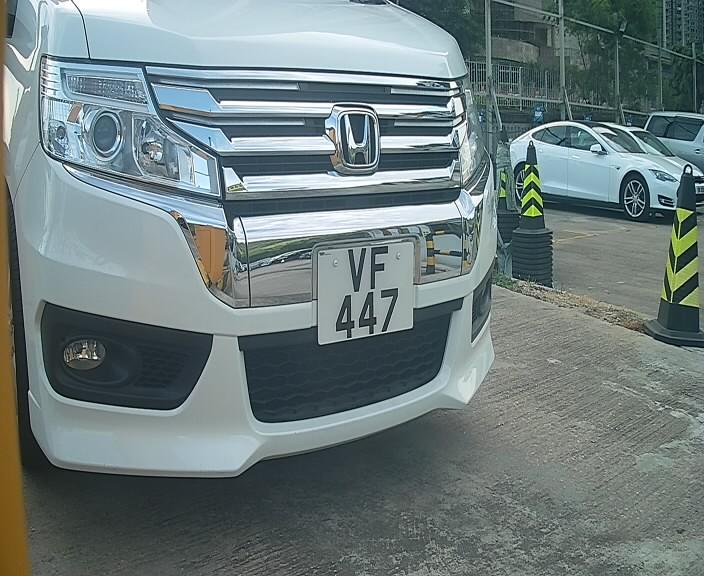License Plate: (309, 214, 431, 355)
